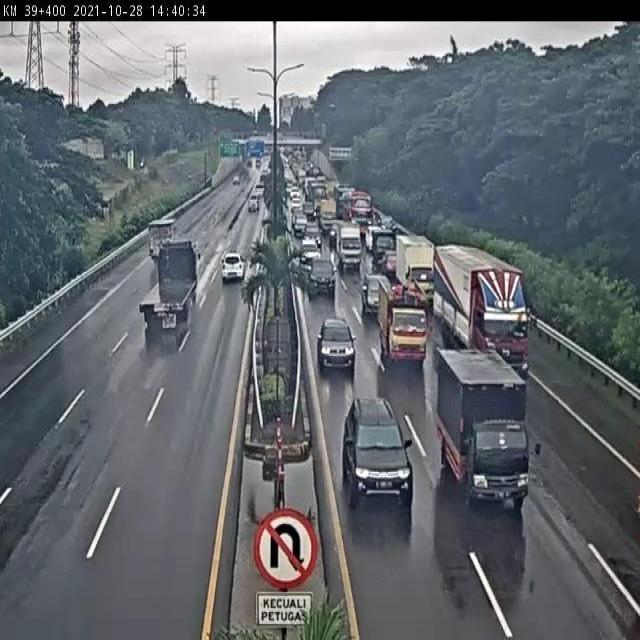big truck: (436, 247, 530, 376), (140, 243, 202, 328)
car: (341, 396, 415, 503), (318, 316, 360, 373), (308, 257, 336, 299), (361, 270, 390, 306), (221, 253, 246, 280)
small truck: (434, 346, 530, 506), (378, 284, 430, 363), (394, 233, 438, 303), (335, 226, 366, 270), (148, 216, 178, 259)
